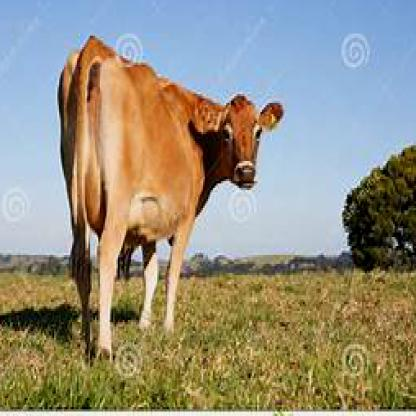cow: (55, 31, 286, 367)
